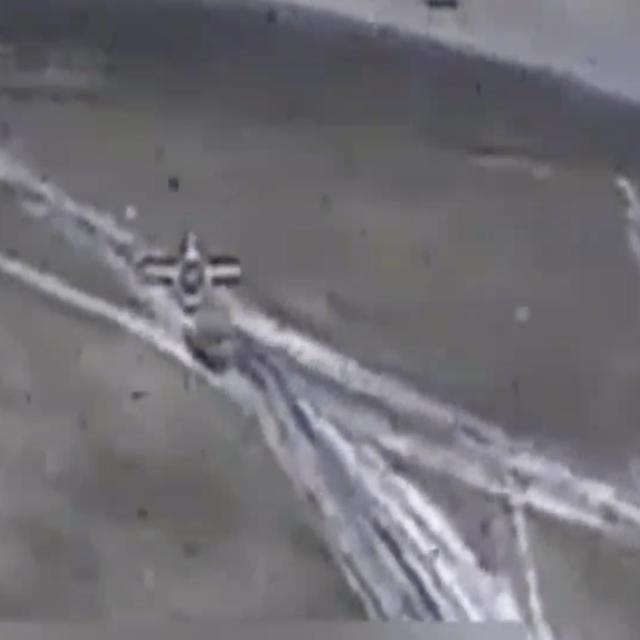vehicle: (180, 300, 240, 368)
